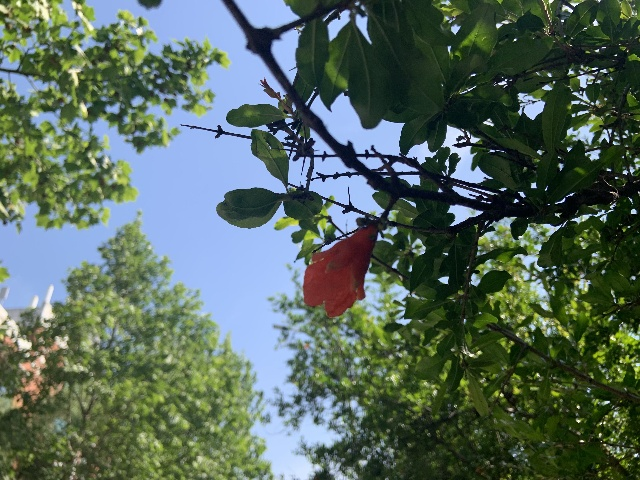flower: (302, 223, 376, 317)
